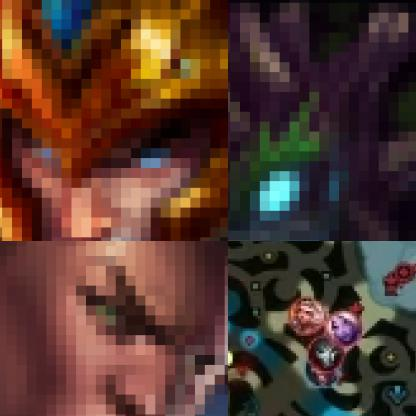Draven: (304, 354, 341, 388)
Jarvan IV: (0, 0, 227, 240)
Jhin: (306, 337, 345, 371)
Lucian: (0, 241, 227, 415)
Maokai: (228, 0, 415, 240)
Qiyana: (289, 296, 327, 335)
Soraka: (325, 309, 364, 346)
